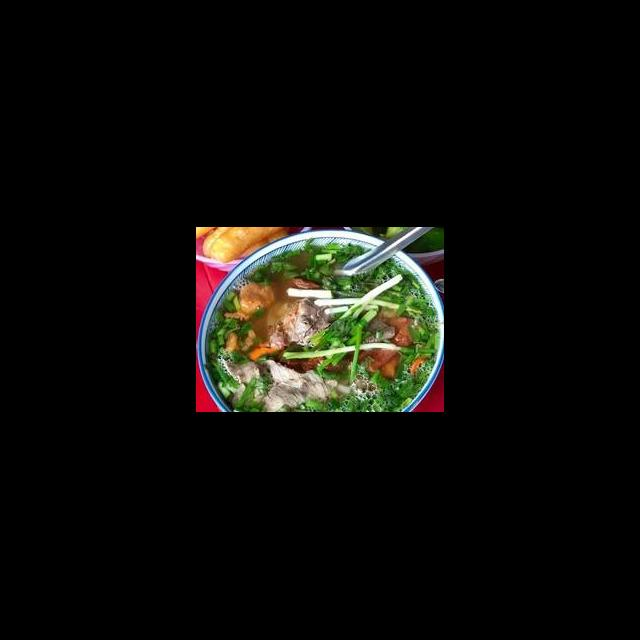thit bo: (259, 357, 339, 412), (262, 296, 334, 354), (218, 357, 276, 408), (355, 314, 397, 348)
